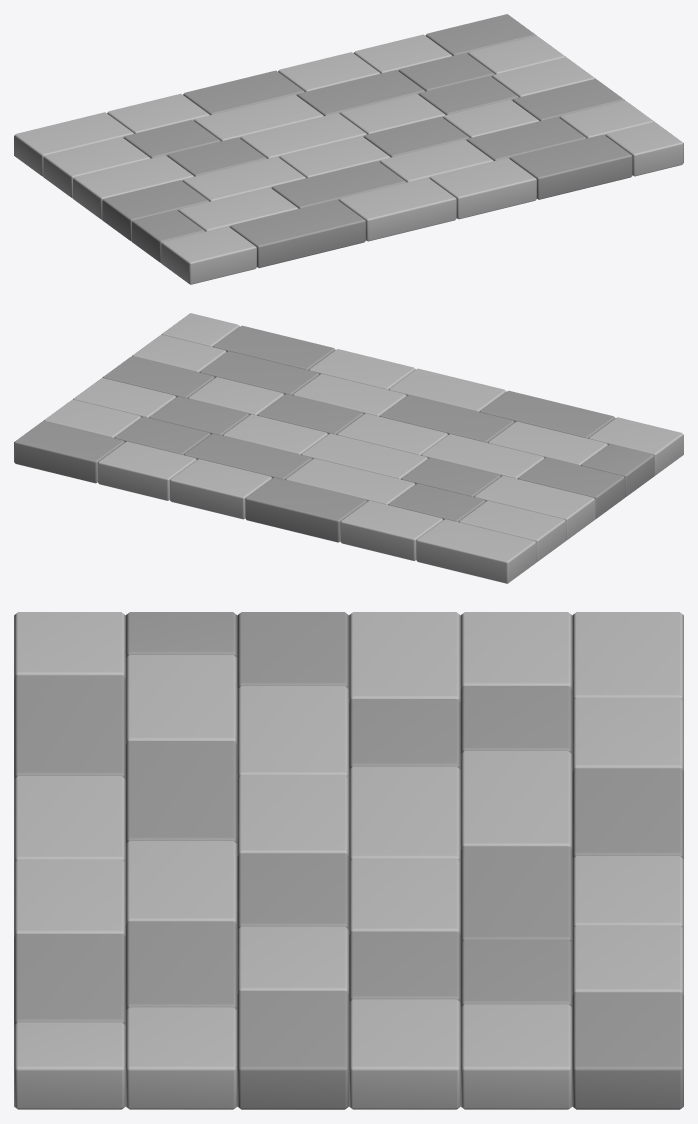
Rendered from City_13_Base_1.glb.
3 renders of one model, top to bottom at view 1: azimuth 30°, elevation 25°; view 2: azimuth 150°, elevation 25°; view 3: azimuth 270°, elevation 25°, orthographic. The views are drawn at different scales.
Parts seen in each view (by area): view 1: City_13_Base_1; view 2: City_13_Base_1; view 3: City_13_Base_1.
Boxes of the visible parts, <box> form: City_13_Base_1: <box>14,14,683,284</box>; City_13_Base_1: <box>14,313,683,583</box>; City_13_Base_1: <box>14,612,683,1109</box>.
Bounding box in the file's own units: 14.12 × 0.6294 × 8.74.
Materials: 1 (1 with a texture image).
